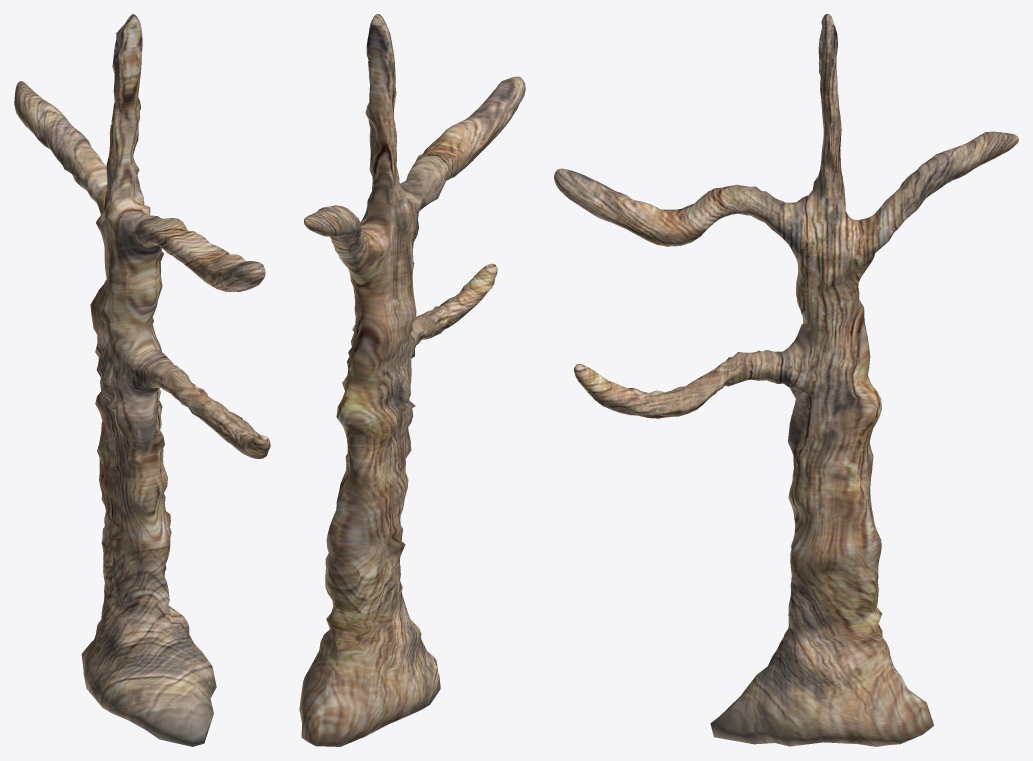
File: Tree.FBX
3 renders of one model, left to right at view 1: azimuth 30°, elevation 25°; view 2: azimuth 150°, elevation 25°; view 3: azimuth 270°, elevation 25°, orthographic. The views are drawn at different scales.
Visible parts, largest first — view 1: Group17798; view 2: Group17798; view 3: Group17798.
Boxes of the visible parts, x1,y1,x2,y2 form: Group17798: (14, 14, 270, 746); Group17798: (299, 14, 525, 746); Group17798: (554, 14, 1018, 746).
Size of the model in its own units: 26.47 by 163 by 95.58.
